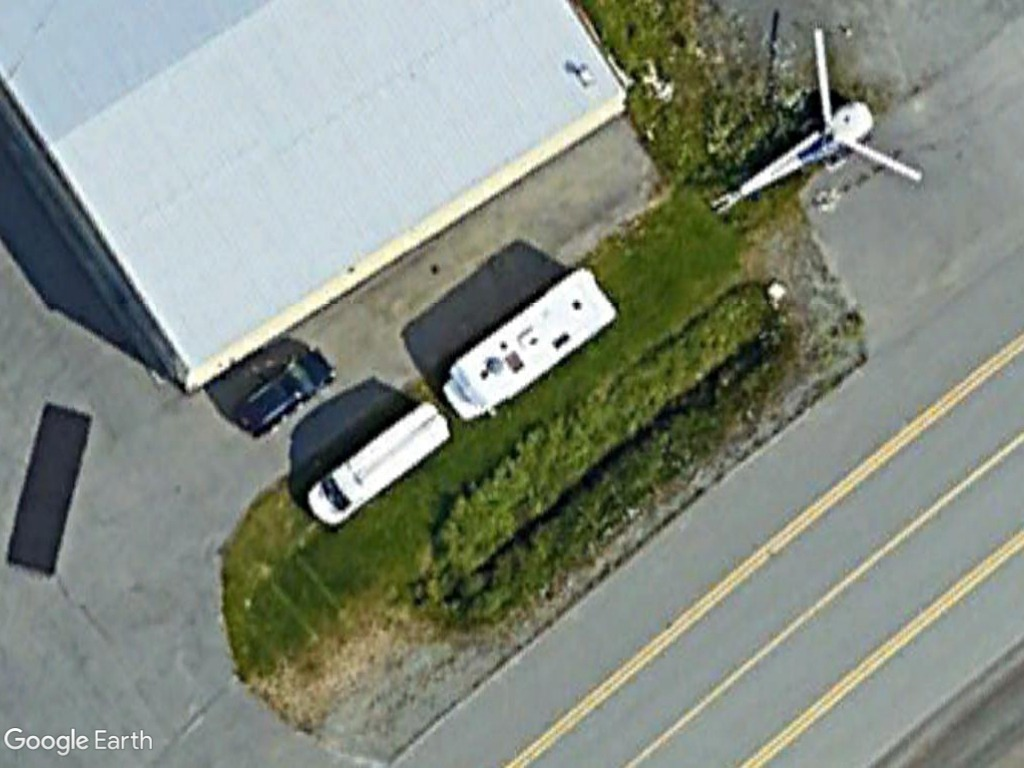helicopter: (704, 21, 939, 222)
truck: (437, 268, 623, 425)
van: (300, 397, 453, 525)
